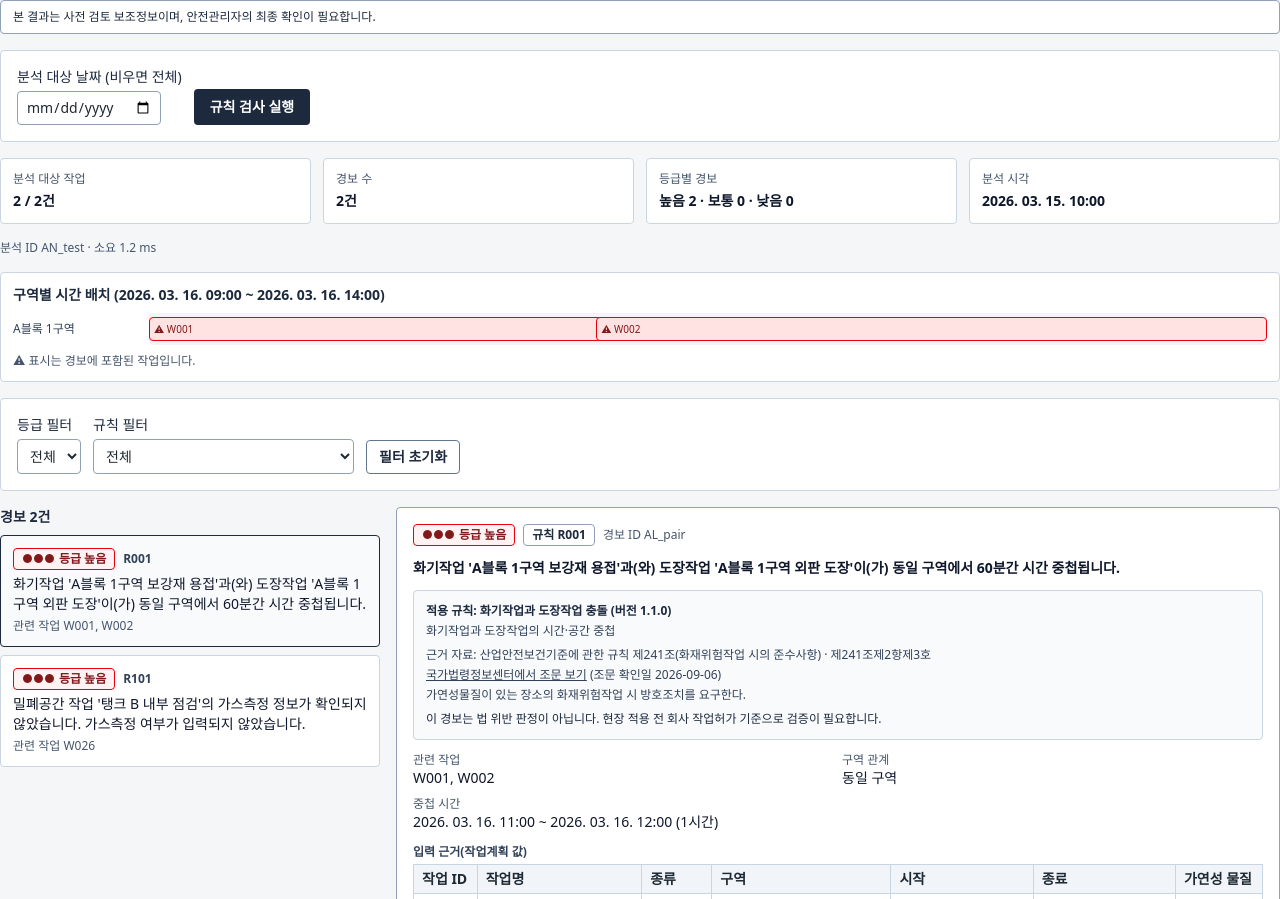
Test: 분석 결과 화면 › 등급·규칙 필터를 적용하고 초기화할 수 있다
Expected: the element named "경보 목록" is shown, x1=0 y1=507 x2=380 y2=767
Select "R101 · 밀폐공간 가스측정 정보 미충족" in the dropdown labelled "규칙 필터" at (224, 456), box x1=93 y1=439 x2=354 y2=474
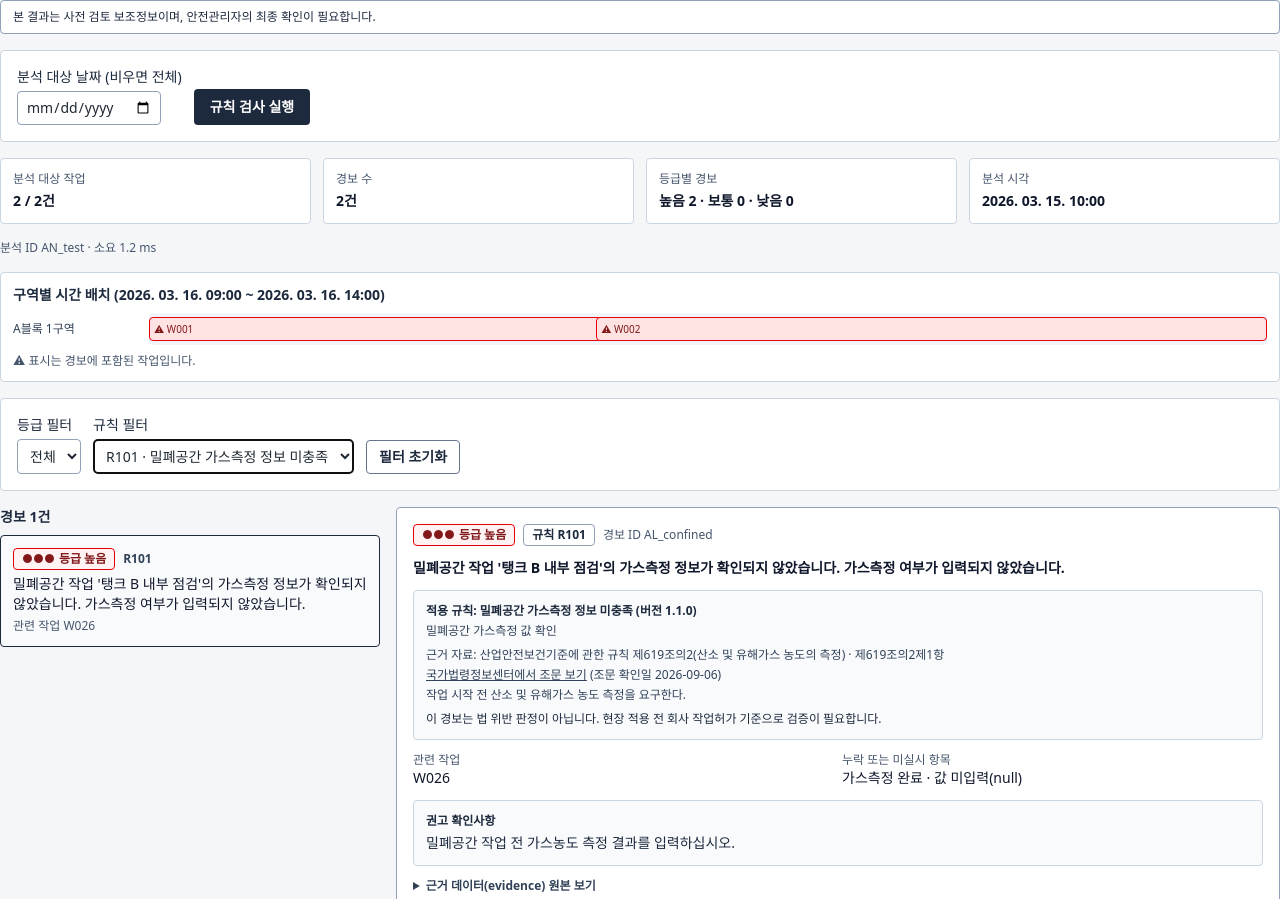
Expected: the text "경보 1건" is shown, x1=0 y1=507 x2=50 y2=526
Click the button "필터 초기화" at (413, 457), box x1=366 y1=440 x2=460 y2=474
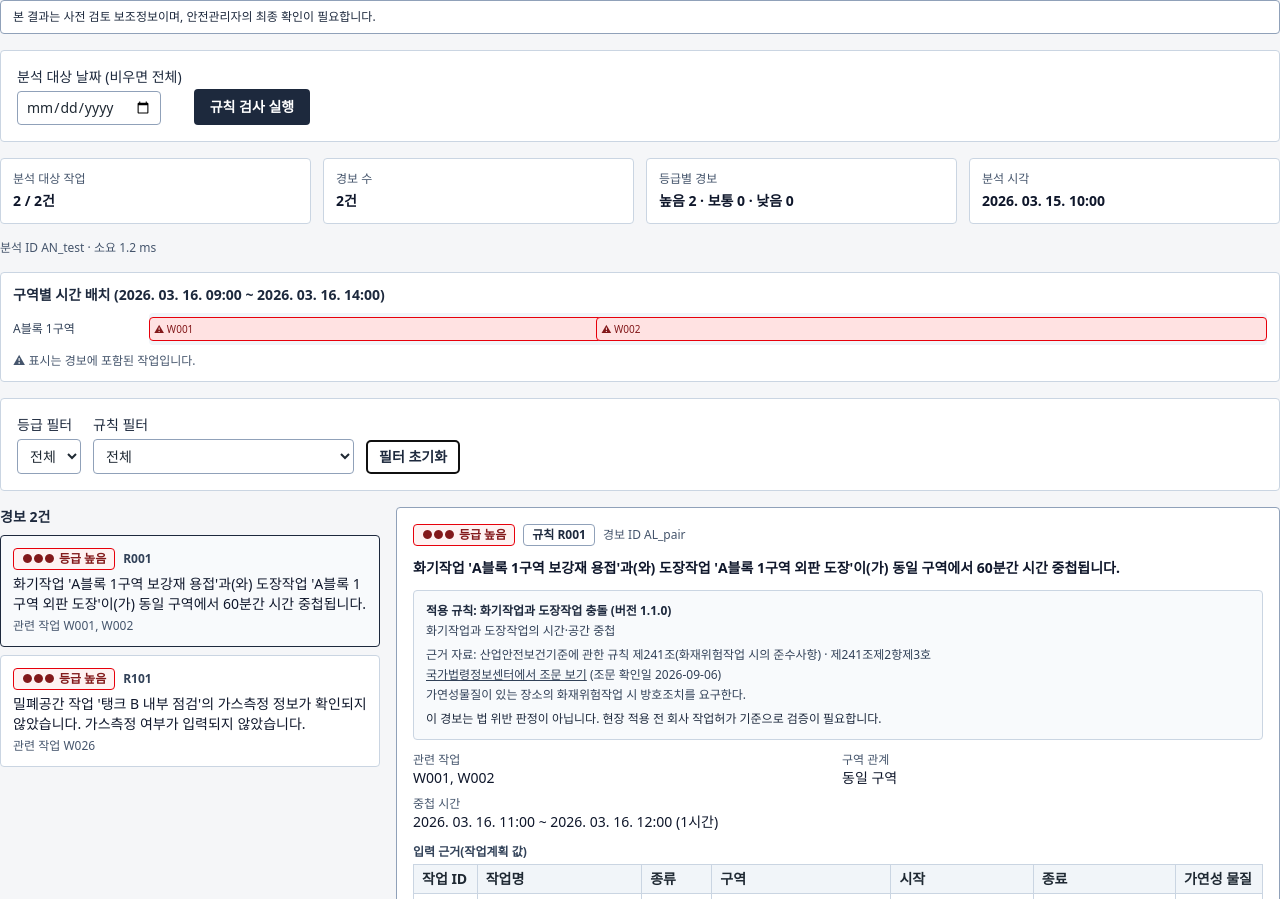
Expected: the text "경보 2건" is shown, x1=0 y1=507 x2=50 y2=526
